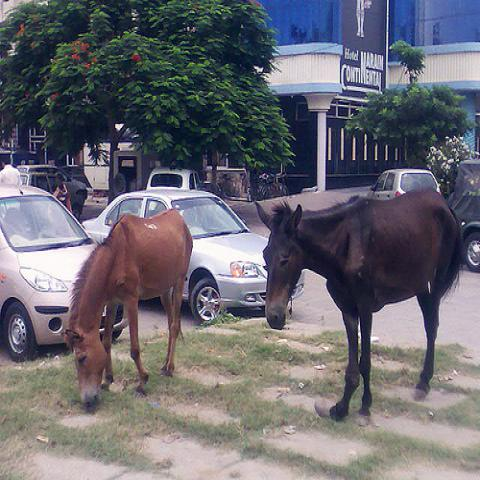car: (81, 190, 270, 319), (1, 185, 96, 361), (18, 162, 93, 229), (447, 160, 479, 274), (366, 171, 441, 200), (145, 166, 203, 192)
